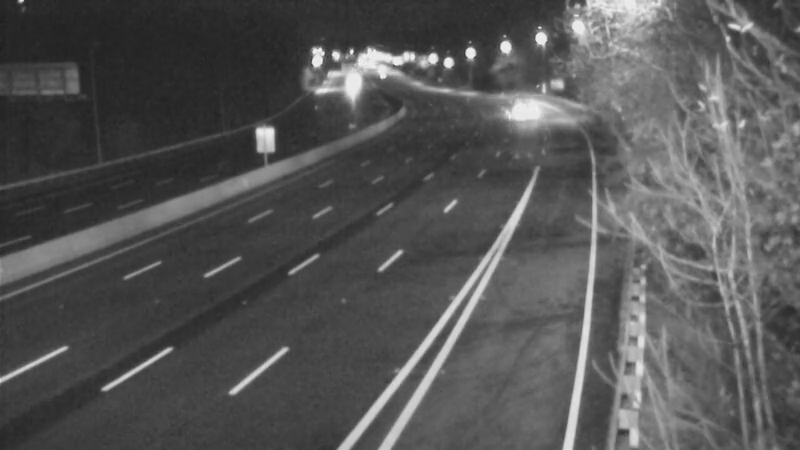vehicle: (496, 84, 546, 134), (325, 62, 375, 112)
